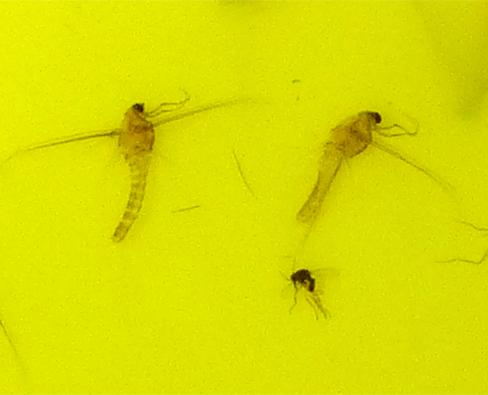Ephemeroptera: (295, 111, 388, 220), (100, 100, 161, 220), (290, 262, 323, 295)
